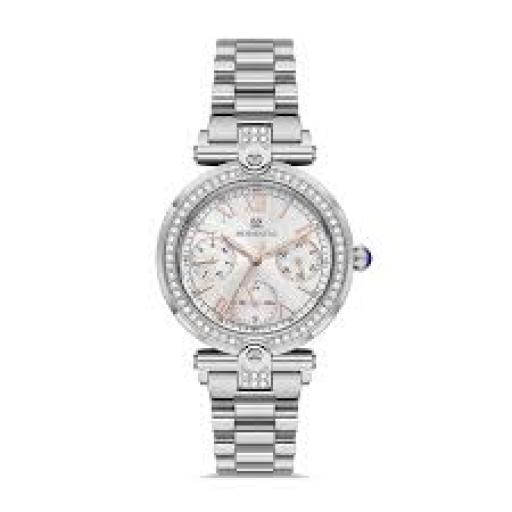KolSaati: (156, 23, 376, 511)
